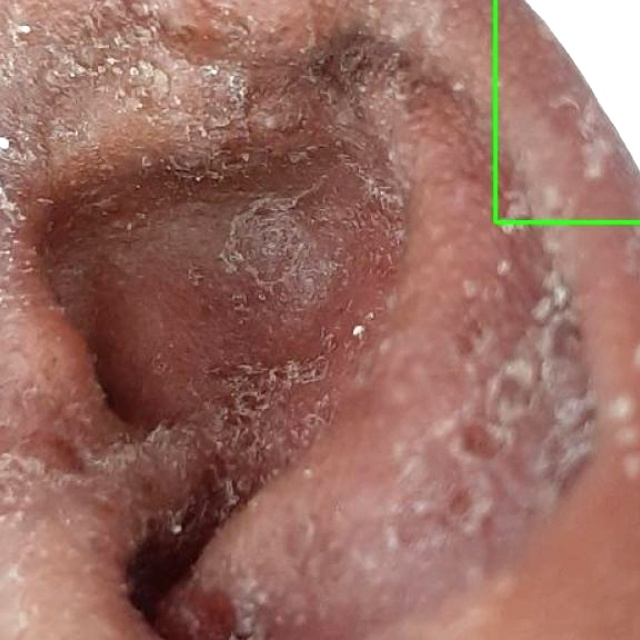Eczema: (495, 0, 639, 222)
